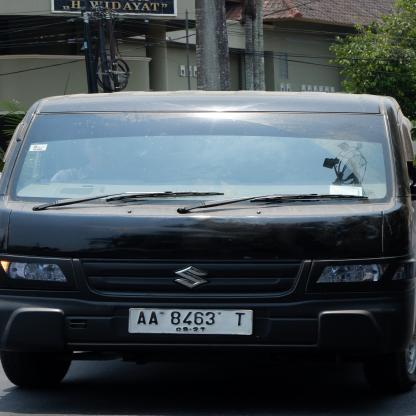Plat-Nomor: (125, 304, 257, 341)
